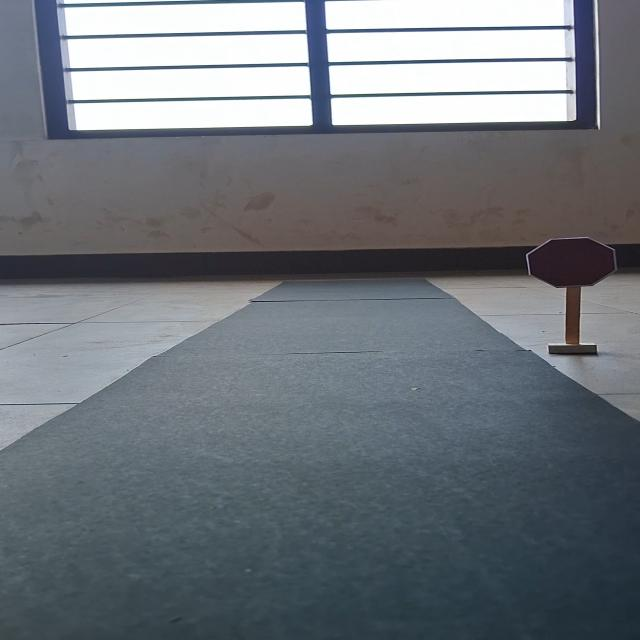Stop: (524, 236, 619, 290)
